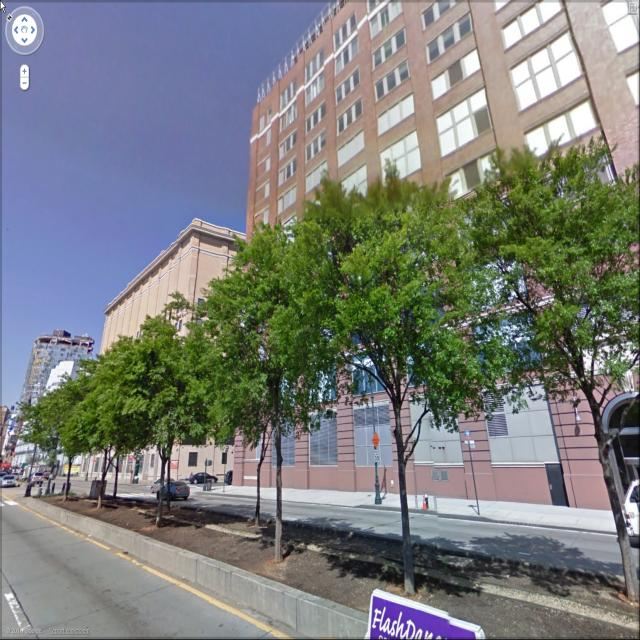b_1: (105, 208, 258, 341), (26, 323, 106, 395)
b_2: (242, 19, 640, 488), (95, 220, 236, 475), (20, 313, 94, 479)
